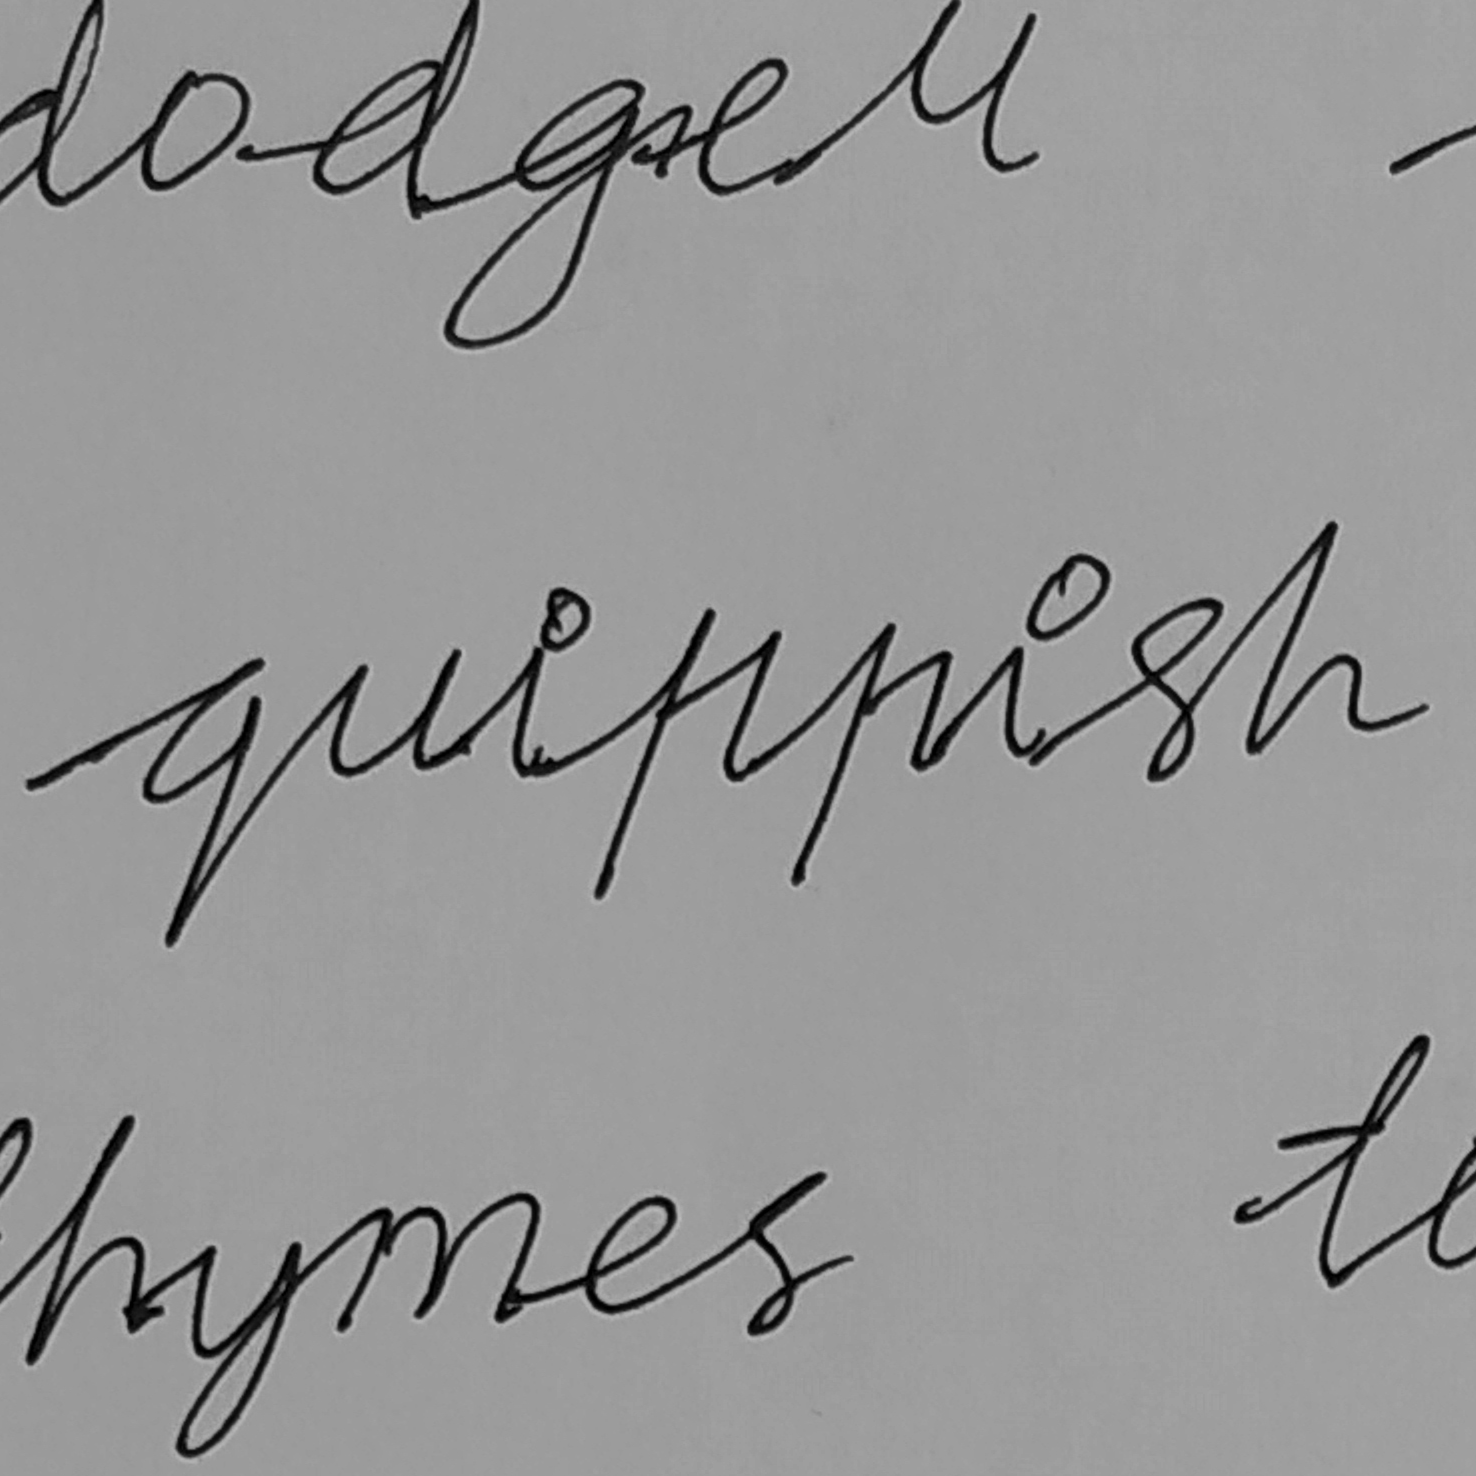h: (1239, 516, 1376, 760)
i: (996, 551, 1112, 772), (500, 583, 596, 784)
p: (591, 606, 784, 903), (787, 616, 956, 893)
q: (137, 653, 270, 954)
s: (1125, 589, 1226, 789)
u: (323, 643, 465, 780)
